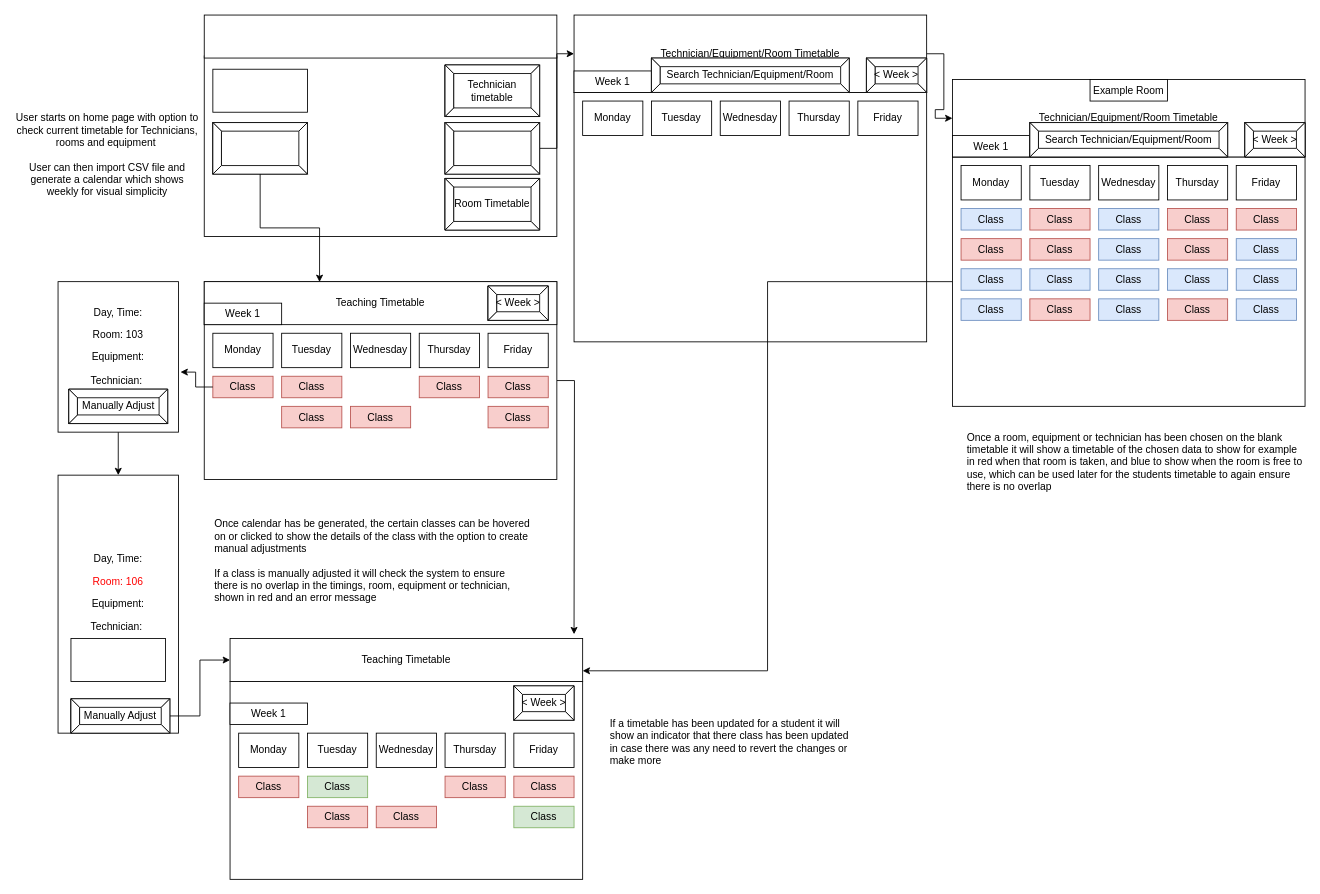
The diagram is 1320 pixels wide and 894 high, and some of its shapes have lost their labels. The centre of each missing label's shape, as x and y in pixels:
"Automated Resource Planner" belongs at point 380,36.
"Equipment Timetable" belongs at point 492,148.
"Error: room already in use" belongs at point 118,660.
"Generate" belongs at point 259,148.
"Import CSV file" belongs at point 259,90.
